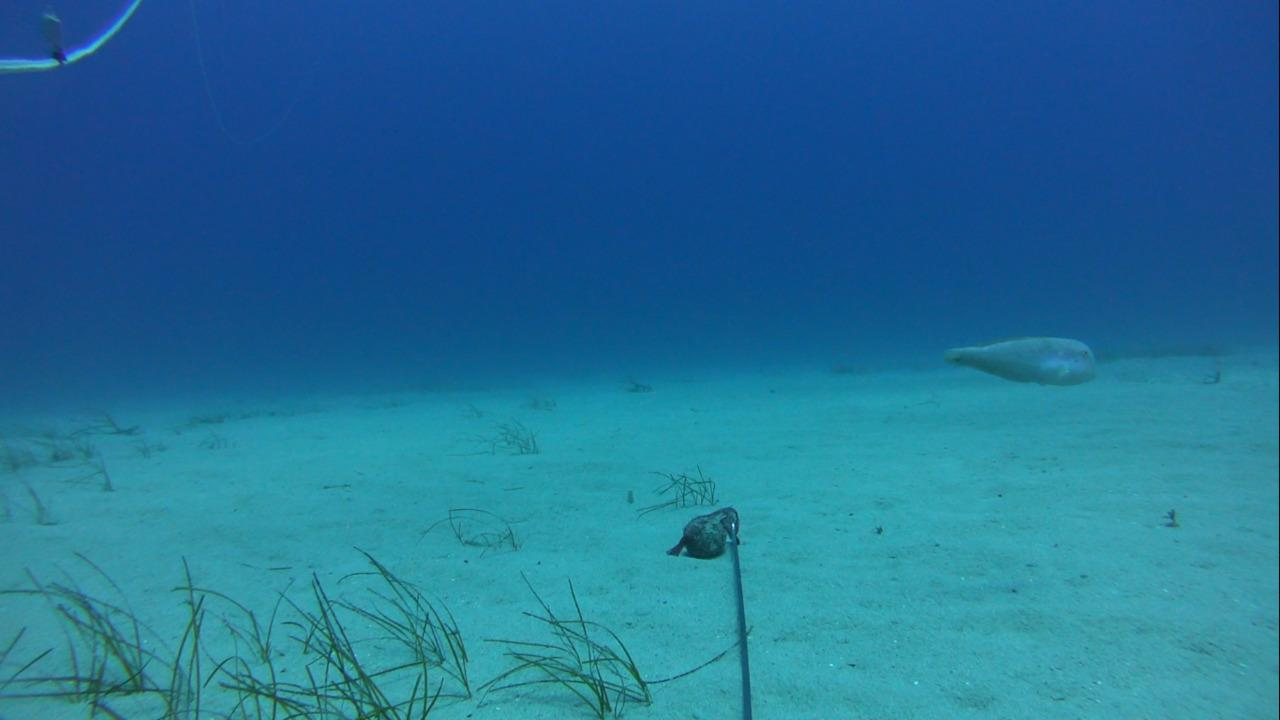raor: (937, 330, 1103, 393)
